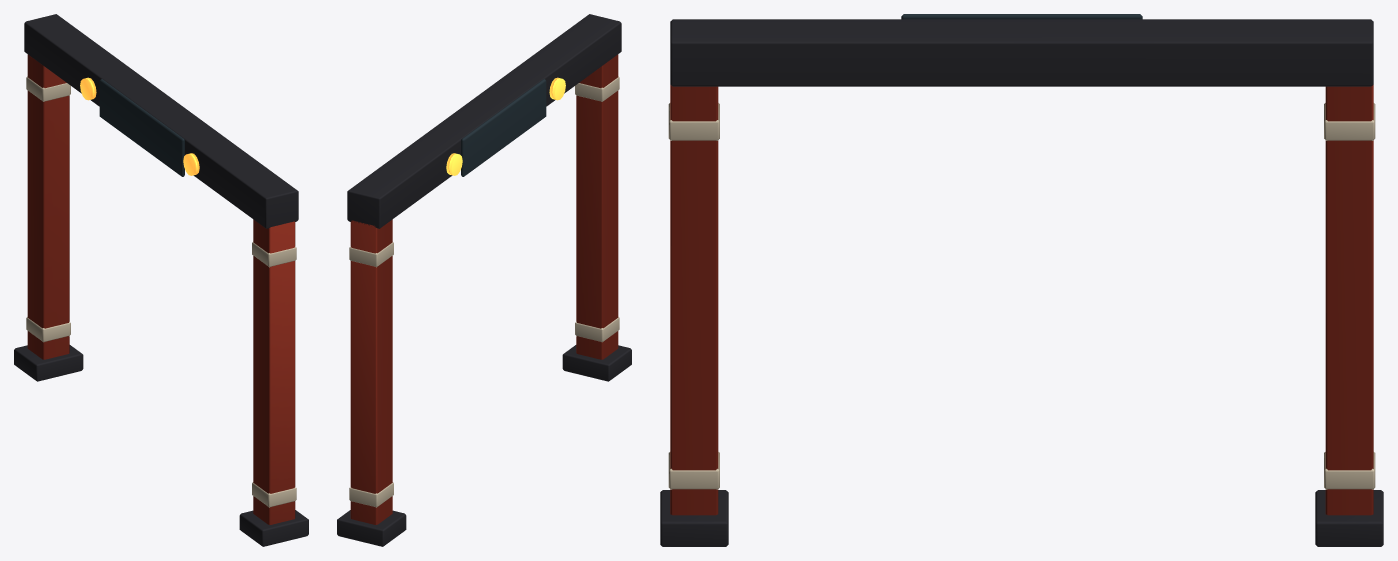
File: speed_arch.glb
The picture shows the model from 3 angles, left to right: view 1: azimuth 30°, elevation 25°; view 2: azimuth 150°, elevation 25°; view 3: azimuth 270°, elevation 25°; orthographic projection. The views are drawn at different scales.
Parts seen in each view (by area): view 1: Foot; view 2: Foot; view 3: Foot.
Boxes of the visible parts, <box> form: Foot: <box>14,14,308,546</box>; Foot: <box>337,14,631,546</box>; Foot: <box>660,14,1383,546</box>.
Bounding box in the file's own units: 0.8 × 5.52 × 7.2.
